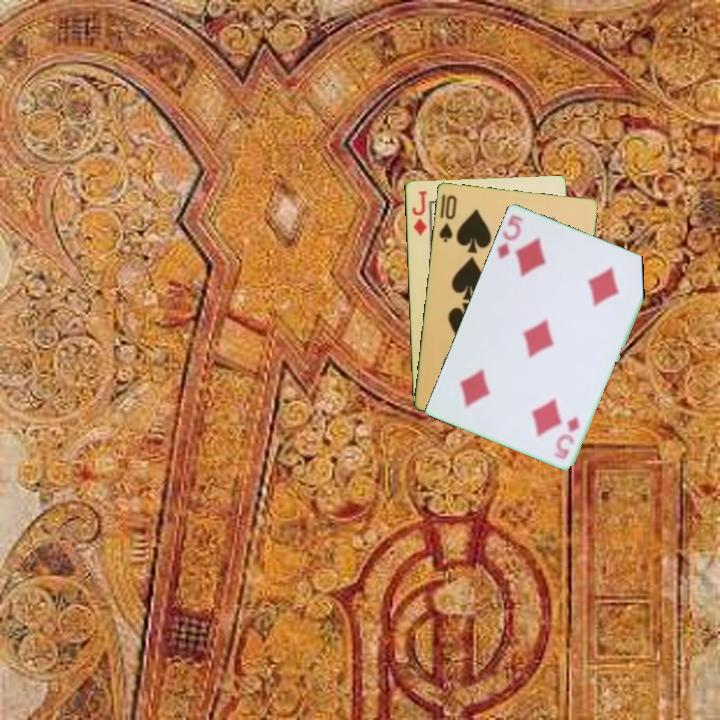10s: (435, 191, 459, 245)
5d: (493, 211, 526, 261), (552, 412, 582, 462)
Jd: (408, 187, 429, 238)
